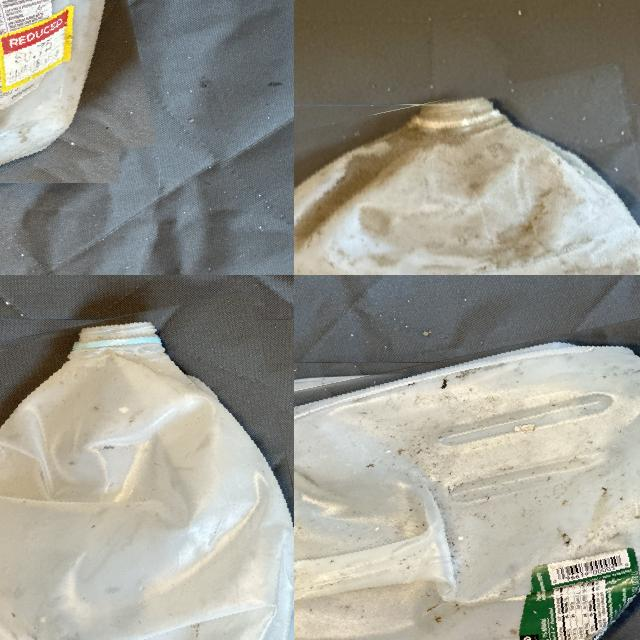milk-jug: (294, 337, 640, 640), (0, 302, 294, 640), (294, 82, 640, 275), (0, 0, 139, 197)
